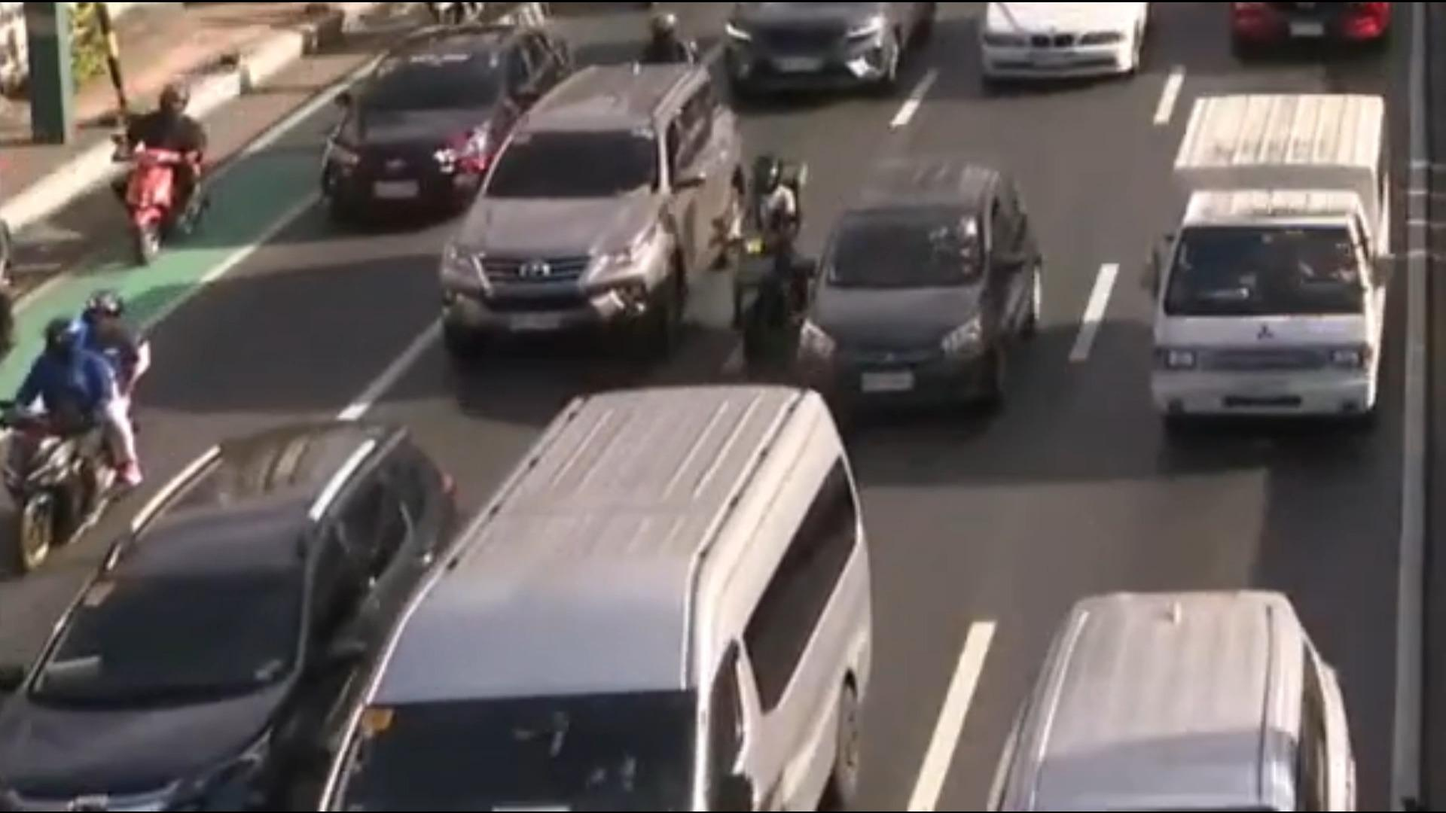Motorcycle: (0, 291, 158, 575), (715, 152, 813, 361), (114, 76, 214, 261)
Multicab: (1147, 89, 1400, 425)
SUV: (0, 426, 473, 813), (987, 583, 1377, 813), (440, 61, 740, 346)
Sedan: (792, 163, 1050, 404), (324, 25, 567, 215)
Van: (320, 389, 870, 813)
